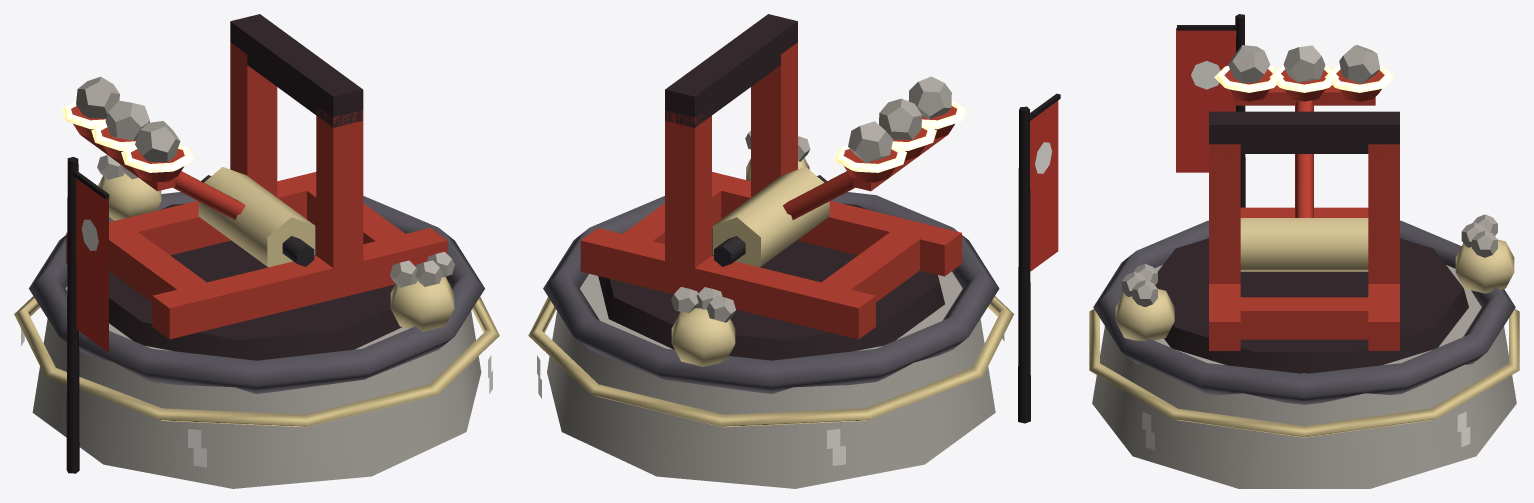
The model's file is tower_catapult_rockStorm.glb.
3 renders of one model, left to right at view 1: azimuth 30°, elevation 25°; view 2: azimuth 150°, elevation 25°; view 3: azimuth 270°, elevation 25°, orthographic. The views are drawn at different scales.
Visible parts, largest first — view 1: base, base_rim, turntable, rail_l, deco_shimenawa_rope, upright_l, stop_bar, torsion_rope, upright_r, deco_nobori_cloth, rail_r, cross_w (+14 smaller); view 2: base, base_rim, turntable, rail_r, deco_shimenawa_rope, stop_bar, upright_r, rail_l, torsion_rope, upright_l, cross_w, deco_nobori_cloth (+11 smaller); view 3: base, turntable, base_rim, stop_bar, torsion_rope, deco_shimenawa_rope, deco_nobori_cloth, cross_e, upright_l, upright_r, net_sack_1, net_sack_0 (+18 smaller).
Part boxes in pixels (left/top/right/bottom): base: left=32, top=286, right=481, bottom=488; base_rim: left=29, top=192, right=484, bottom=393; turntable: left=109, top=203, right=401, bottom=360; rail_l: left=152, top=228, right=447, bottom=339; deco_shimenawa_rope: left=14, top=296, right=499, bottom=427; upright_l: left=316, top=106, right=363, bottom=268; stop_bar: left=230, top=14, right=363, bottom=127; torsion_rope: left=198, top=167, right=315, bottom=267; upright_r: left=230, top=42, right=277, bottom=197; deco_nobori_cloth: left=76, top=178, right=108, bottom=352; rail_r: left=66, top=172, right=316, bottom=264; cross_w: left=109, top=219, right=224, bottom=331; base: left=547, top=271, right=995, bottom=488; base_rim: left=543, top=192, right=999, bottom=393; turntable: left=598, top=203, right=944, bottom=360; rail_r: left=580, top=228, right=875, bottom=339; deco_shimenawa_rope: left=528, top=296, right=1013, bottom=427; stop_bar: left=665, top=14, right=797, bottom=127; upright_r: left=665, top=110, right=711, bottom=268; rail_l: left=712, top=172, right=961, bottom=276; torsion_rope: left=712, top=167, right=829, bottom=267; upright_l: left=751, top=42, right=797, bottom=197; cross_w: left=804, top=219, right=919, bottom=332; deco_nobori_cloth: left=1030, top=101, right=1058, bottom=271; base: left=1092, top=265, right=1516, bottom=488; turntable: left=1155, top=238, right=1468, bottom=373; base_rim: left=1093, top=220, right=1515, bottom=404; stop_bar: left=1209, top=111, right=1399, bottom=153; torsion_rope: left=1240, top=218, right=1368, bottom=271; deco_shimenawa_rope: left=1089, top=309, right=1519, bottom=437; deco_nobori_cloth: left=1176, top=28, right=1236, bottom=172; cross_e: left=1240, top=297, right=1368, bottom=339; upright_l: left=1209, top=144, right=1240, bottom=283; upright_r: left=1368, top=144, right=1399, bottom=283; net_sack_1: left=1455, top=239, right=1514, bottom=293; net_sack_0: left=1115, top=289, right=1174, bottom=341.
Bounding box in the file's own units: 0.4387 × 0.315 × 0.4052.
